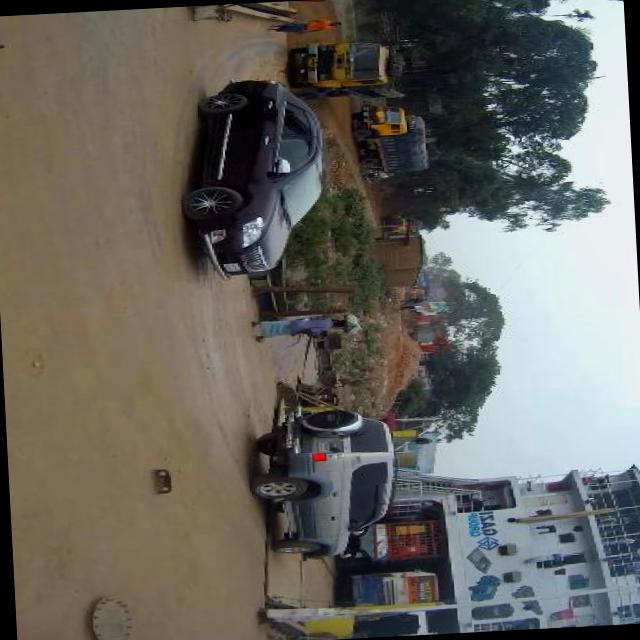car: (175, 74, 334, 282), (250, 409, 392, 562)
motorcycle: (362, 170, 396, 183)
truck: (291, 39, 408, 104), (354, 105, 431, 173), (343, 528, 445, 567), (382, 214, 422, 237), (406, 288, 432, 300)
